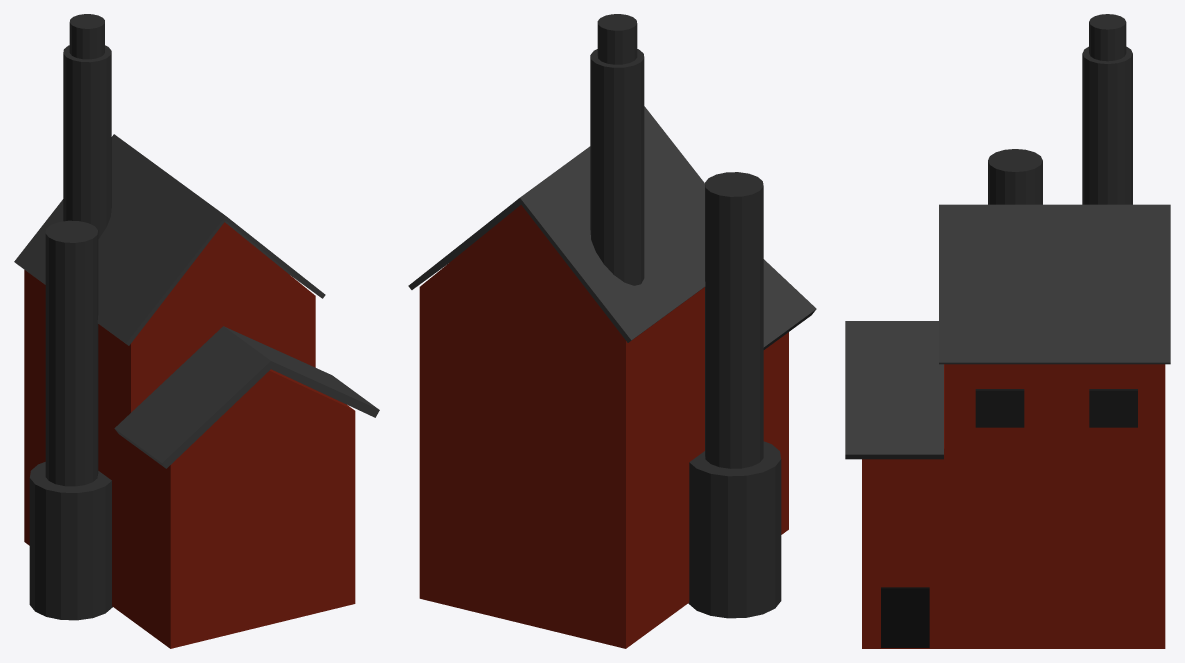
The model's file is Sawmill1.glb.
The picture shows the model from 3 angles, left to right: view 1: azimuth 30°, elevation 25°; view 2: azimuth 150°, elevation 25°; view 3: azimuth 270°, elevation 25°; orthographic projection. The views are drawn at different scales.
Visible parts, largest first — view 1: Sawmill2; view 2: Sawmill2; view 3: Sawmill2.
Boxes of the visible parts, x1,y1,x2,y2 form: Sawmill2: [14, 14, 379, 648]; Sawmill2: [408, 14, 816, 648]; Sawmill2: [845, 14, 1170, 648].
Bounding box in the file's own units: 2.85 × 5.53 × 2.94.
1 material, 1 textured.
